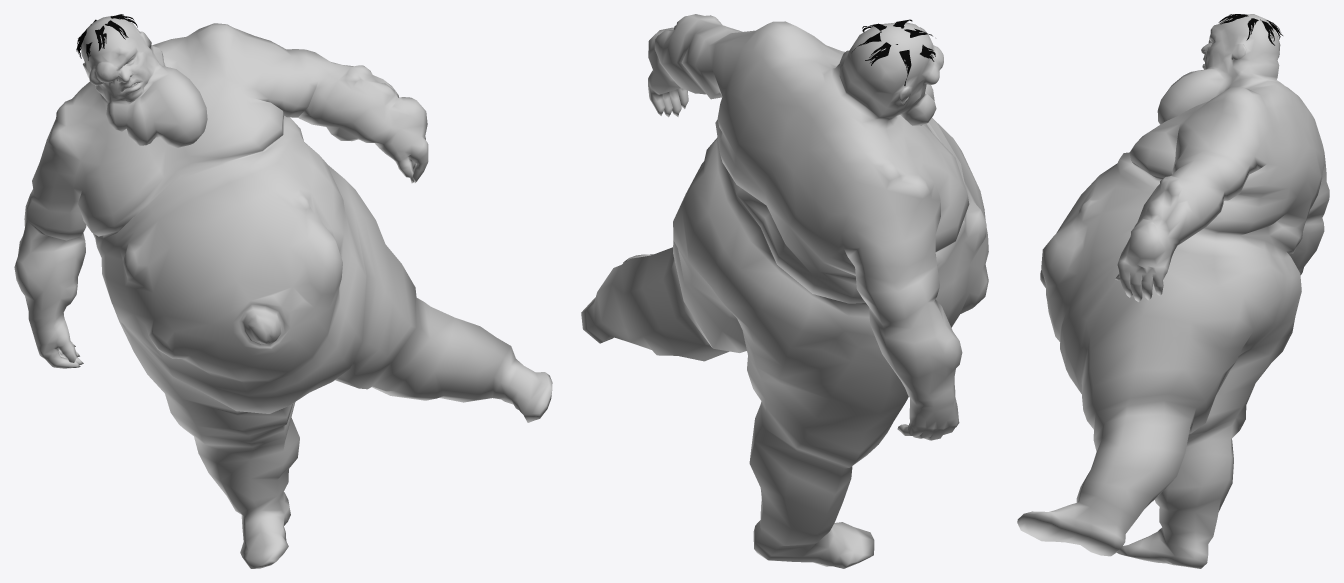
The model's file is boomer_big.FBX.
3 views of the same model, side by side, from view 1: azimuth 30°, elevation 25°; view 2: azimuth 150°, elevation 25°; view 3: azimuth 270°, elevation 25° (orthographic). The views are drawn at different scales.
Visible parts, largest first — view 1: Boomer; view 2: Boomer; view 3: Boomer.
Part boxes in pixels (x1=…): Boomer: x1=14, y1=14, x2=552, y2=568; Boomer: x1=581, y1=14, x2=988, y2=568; Boomer: x1=1017, y1=14, x2=1329, y2=568.
Size of the model in its own units: 59.54 by 72.16 by 40.72.
